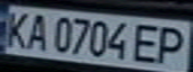0: (87, 17, 112, 59), (48, 14, 72, 54)
4: (106, 19, 133, 62)
7: (66, 15, 90, 56)
A: (21, 10, 51, 52)
E: (127, 20, 166, 65)
K: (0, 8, 33, 50)
P: (151, 23, 193, 66)
